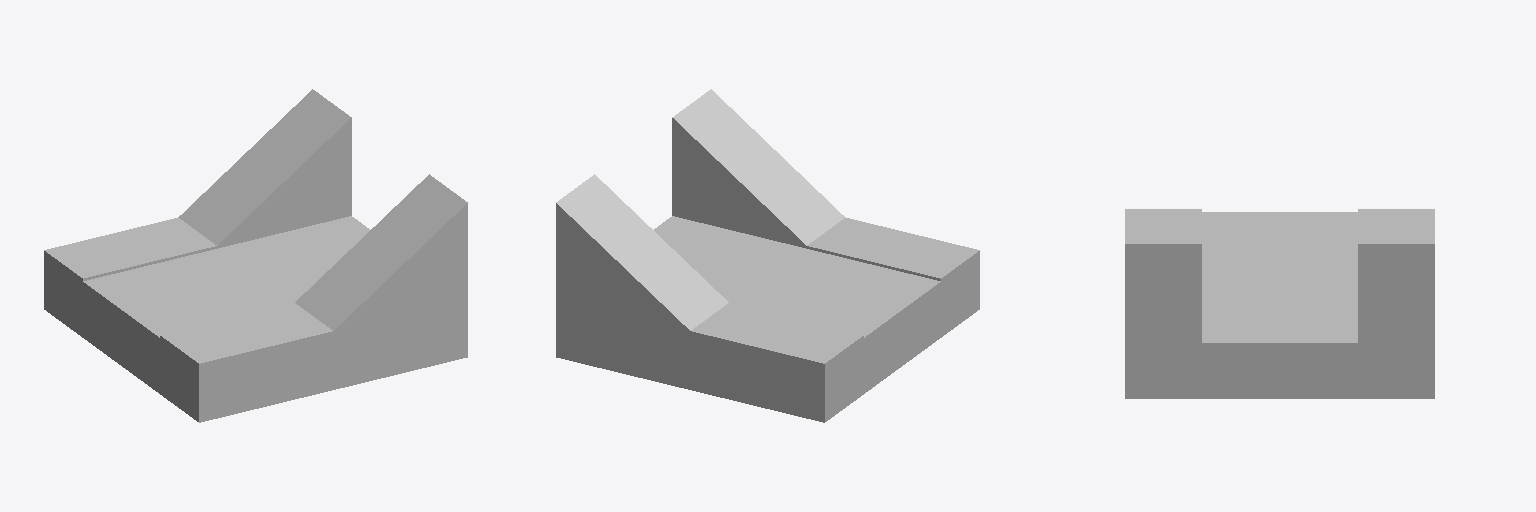
The model's file is tile291.obj.
3 renders of one model, left to right at view 1: azimuth 30°, elevation 25°; view 2: azimuth 150°, elevation 25°; view 3: azimuth 270°, elevation 25°, orthographic.
Parts seen in each view (by area): view 1: tile291; view 2: tile291; view 3: tile291.
Boxes of the visible parts, x1=… form: tile291: x1=44, y1=89, x2=467, y2=422; tile291: x1=556, y1=89, x2=979, y2=422; tile291: x1=1125, y1=209, x2=1434, y2=398.
Size of the model in its own units: 1 by 0.55 by 1.